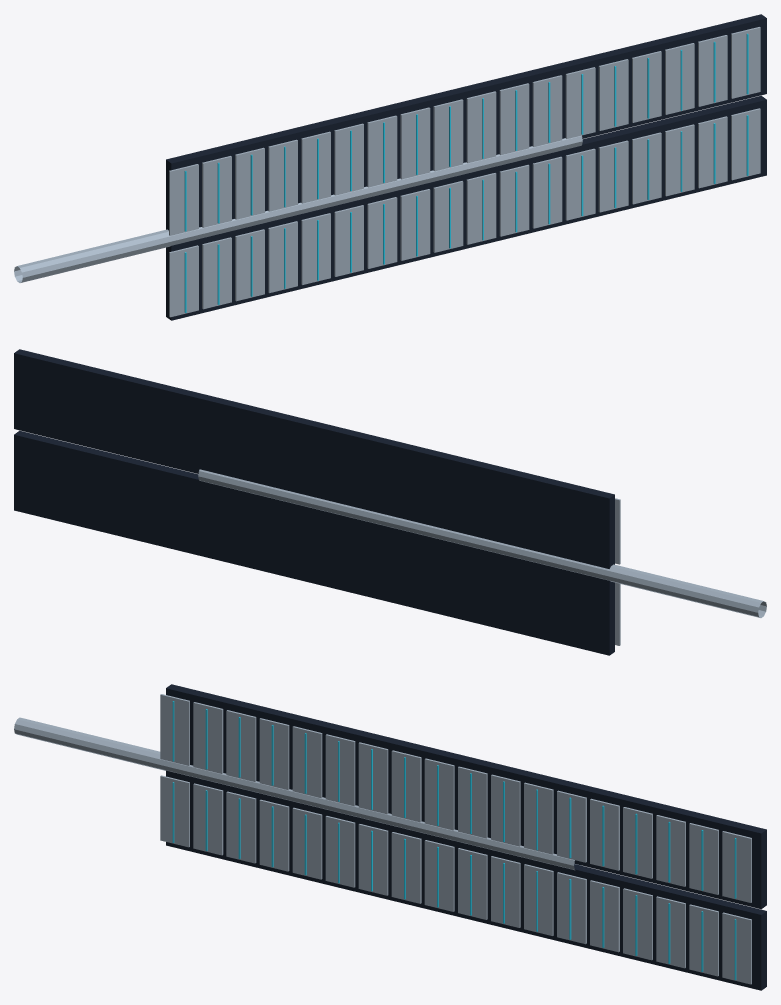
Rendered from 08_L85_StationThermalRadiatorWing.fbx.
3 renders of one model, top to bottom at view 1: azimuth 30°, elevation 25°; view 2: azimuth 150°, elevation 25°; view 3: azimuth 330°, elevation 25°, orthographic.
Visible parts, largest first — view 1: L85_StationThermalRadiatorWing_Part_0001, L85_StationThermalRadiatorWing_Part_0002, L85_StationThermalRadiatorWing_Part_0000, L85_StationThermalRadiatorWing_Part_0003, L85_StationThermalRadiatorWing_Part_0004, L85_StationThermalRadiatorWing_Part_0005, L85_StationThermalRadiatorWing_Part_0006; view 2: L85_StationThermalRadiatorWing_Part_0000, L85_StationThermalRadiatorWing_Part_0003; view 3: L85_StationThermalRadiatorWing_Part_0002, L85_StationThermalRadiatorWing_Part_0001, L85_StationThermalRadiatorWing_Part_0000, L85_StationThermalRadiatorWing_Part_0003, L85_StationThermalRadiatorWing_Part_0005, L85_StationThermalRadiatorWing_Part_0004, L85_StationThermalRadiatorWing_Part_0006.
Part boxes in pixels (x1,y1,x2,y2): L85_StationThermalRadiatorWing_Part_0001: (169,140,628,317); L85_StationThermalRadiatorWing_Part_0002: (169,91,760,235); L85_StationThermalRadiatorWing_Part_0000: (166,14,766,320); L85_StationThermalRadiatorWing_Part_0003: (14,27,760,282); L85_StationThermalRadiatorWing_Part_0004: (184,147,616,312); L85_StationThermalRadiatorWing_Part_0005: (184,98,748,231); L85_StationThermalRadiatorWing_Part_0006: (515,33,748,150); L85_StationThermalRadiatorWing_Part_0000: (14,349,614,655); L85_StationThermalRadiatorWing_Part_0003: (198,469,766,617); L85_StationThermalRadiatorWing_Part_0002: (160,694,751,984); L85_StationThermalRadiatorWing_Part_0001: (160,775,619,952); L85_StationThermalRadiatorWing_Part_0000: (166,684,766,990); L85_StationThermalRadiatorWing_Part_0003: (14,717,751,902); L85_StationThermalRadiatorWing_Part_0005: (172,701,736,980); L85_StationThermalRadiatorWing_Part_0004: (172,782,604,947); L85_StationThermalRadiatorWing_Part_0006: (503,781,736,898).
Size of the model in its own units: 546 by 110 by 13.75.
